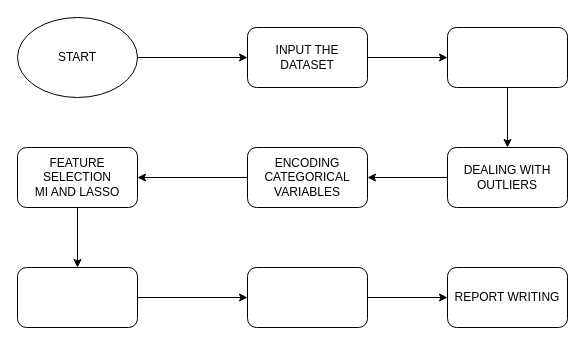
The diagram is 585 pixels wide and 345 high, and some of its shapes have lost their labels. Each missing label, with the box of its shape:
CHECK FOR MISSING DATA: (446, 26, 568, 88)
EVALUATION: (246, 266, 368, 328)
TRAINING THREE MODELS RF, XGBoost, FNN: (16, 266, 138, 328)
